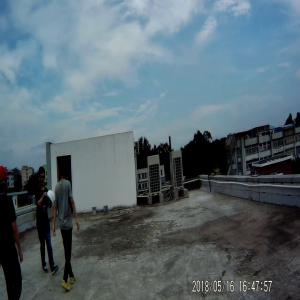none: (58, 162, 69, 184), (38, 166, 47, 187)
red: (2, 164, 11, 199)
